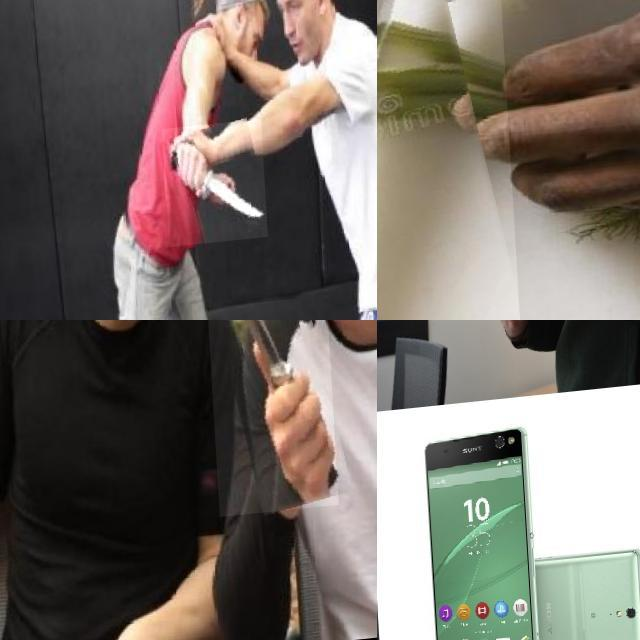-: (377, 0, 572, 320), (197, 320, 332, 523), (159, 126, 264, 252)
